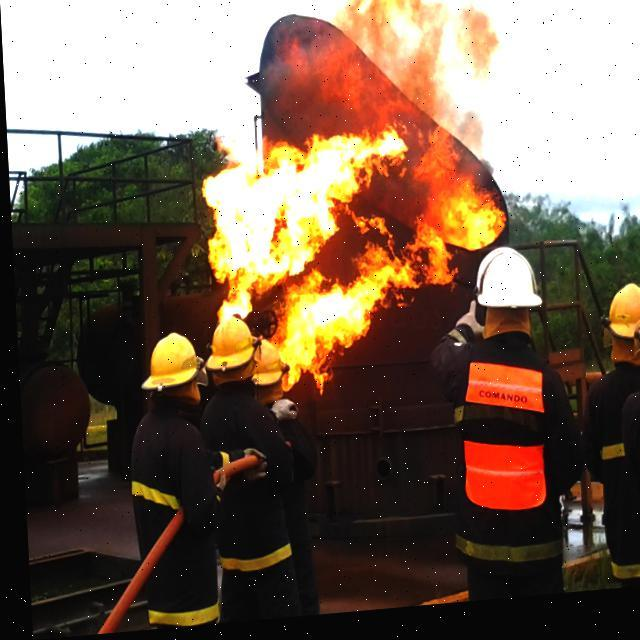Fire: (189, 0, 512, 401)
